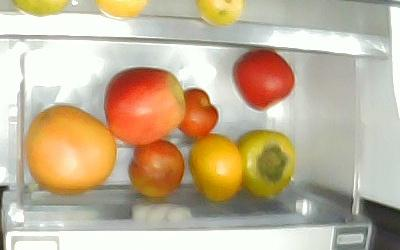apple: (102, 66, 187, 146), (231, 48, 295, 111)
grapefruit: (24, 102, 116, 195)
persimmon: (234, 128, 295, 199), (186, 131, 243, 203)
prune: (126, 138, 185, 198), (177, 87, 218, 139)
